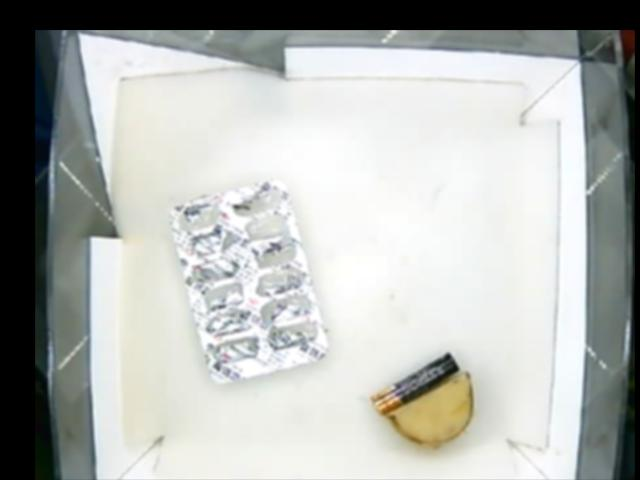Battery: (364, 355, 456, 414)
Medicine: (168, 180, 329, 384)
Potato: (389, 374, 472, 445)
